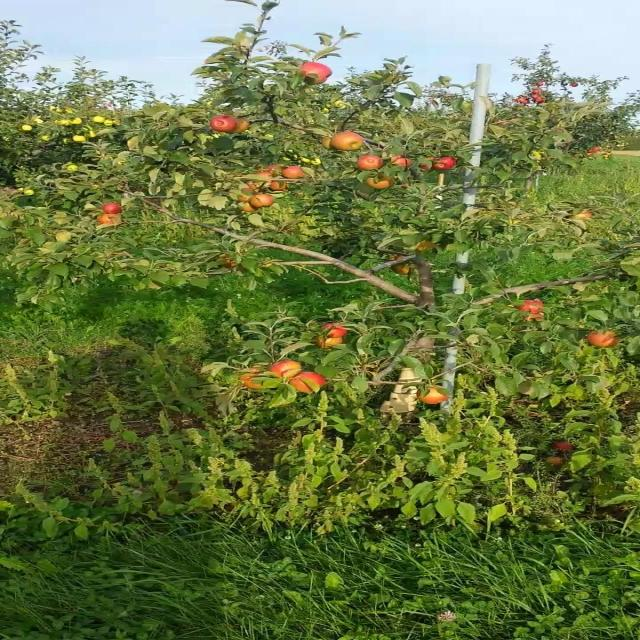apple: (289, 371, 327, 392), (298, 61, 331, 85), (329, 131, 364, 151), (418, 385, 449, 405), (269, 360, 302, 378), (587, 330, 620, 348), (238, 368, 262, 389), (209, 115, 238, 132), (322, 322, 349, 338), (364, 176, 393, 189), (431, 156, 456, 171), (518, 299, 544, 313), (96, 212, 122, 226), (358, 155, 382, 170), (249, 194, 273, 208), (282, 165, 304, 179), (567, 208, 592, 220), (317, 336, 342, 348), (413, 240, 438, 252), (551, 440, 576, 452), (218, 254, 238, 268), (416, 157, 435, 171), (389, 155, 409, 168), (238, 181, 259, 193), (233, 118, 251, 132), (391, 262, 411, 274), (230, 192, 252, 202), (253, 169, 275, 179), (102, 202, 122, 213), (524, 311, 544, 321), (264, 163, 282, 174), (269, 180, 287, 191), (237, 202, 256, 212), (546, 455, 564, 465), (320, 136, 331, 149), (387, 254, 404, 261)
